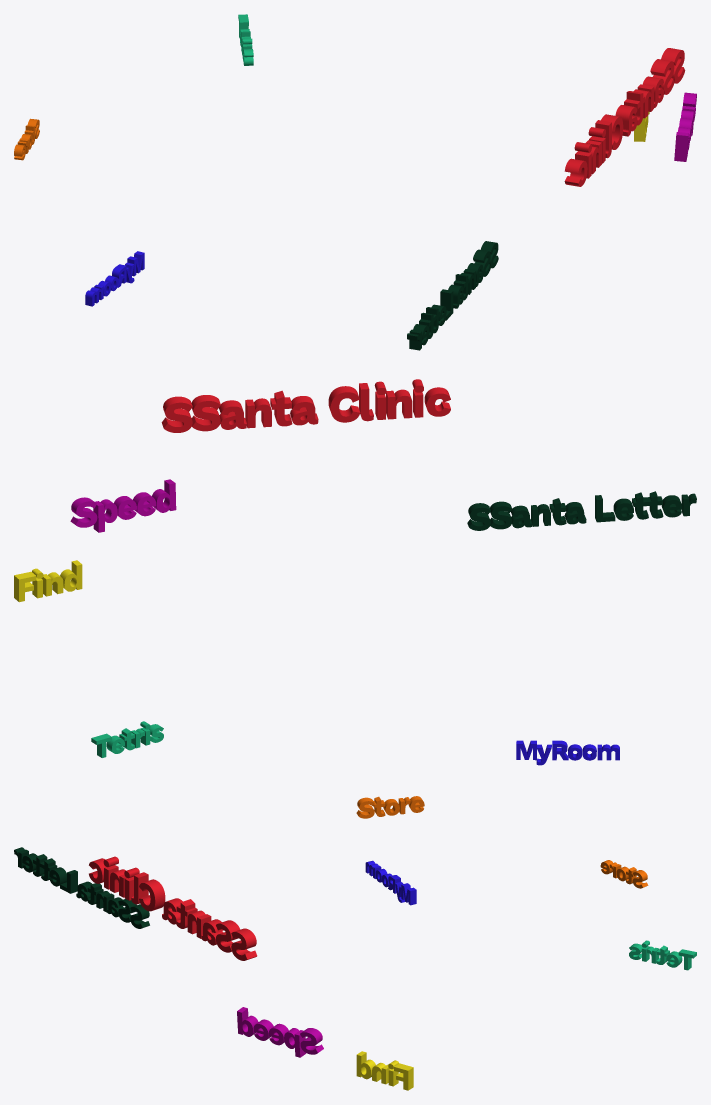
The model's file is main_Text_lwt.glb.
3 renders of one model, top to bottom at view 1: azimuth 30°, elevation 25°; view 2: azimuth 150°, elevation 25°; view 3: azimuth 270°, elevation 25°, orthographic. The views are drawn at different scales.
Parts seen in each view (by area): view 1: SSanta_Clinic, SSanta_Letter, MyRoom, Speed, Store, Tetris; view 2: SSanta_Clinic, SSanta_Letter, Speed, Find, MyRoom, Tetris, Store; view 3: SSanta_Clinic, SSanta_Letter, Speed, Find, Tetris, MyRoom, Store.
Part boxes in pixels (bbox=[...]): SSanta_Clinic: bbox=[564, 48, 685, 186]; SSanta_Letter: bbox=[407, 241, 498, 350]; MyRoom: bbox=[85, 251, 144, 306]; Speed: bbox=[674, 92, 696, 161]; Store: bbox=[14, 118, 39, 160]; Tetris: bbox=[238, 14, 253, 65]; SSanta_Clinic: bbox=[161, 379, 450, 432]; SSanta_Letter: bbox=[467, 491, 696, 530]; Speed: bbox=[70, 479, 176, 532]; Find: bbox=[14, 560, 82, 602]; MyRoom: bbox=[516, 740, 619, 765]; Tetris: bbox=[91, 721, 163, 757]; Store: bbox=[356, 796, 424, 818]; SSanta_Clinic: bbox=[89, 856, 257, 960]; SSanta_Letter: bbox=[14, 847, 149, 928]; Speed: bbox=[237, 1007, 323, 1057]; Find: bbox=[356, 1051, 413, 1090]; Tetris: bbox=[629, 940, 696, 970]; MyRoom: bbox=[365, 860, 416, 905]; Store: bbox=[600, 860, 648, 888].
Bounding box in the file's own units: 69.76 × 21.58 × 80.27.
